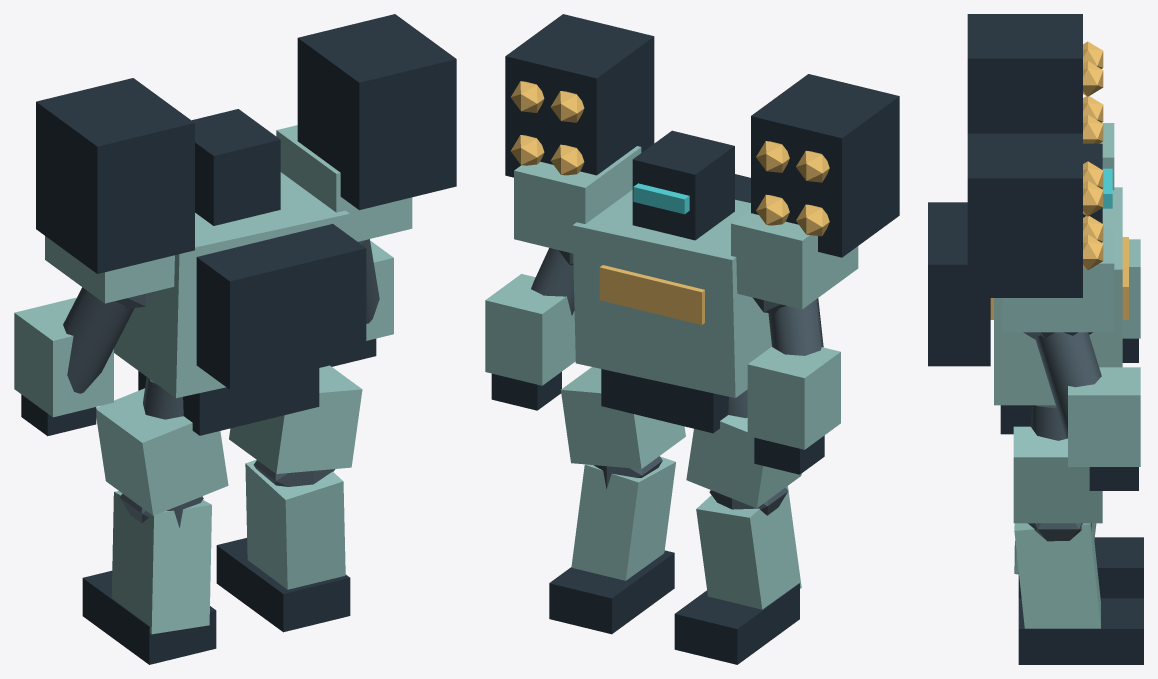
File: frame-monarch.glb
The picture shows the model from 3 angles, left to right: view 1: azimuth 30°, elevation 25°; view 2: azimuth 150°, elevation 25°; view 3: azimuth 270°, elevation 25°; orthographic projection. The views are drawn at different scales.
Parts seen in each view (by area): view 1: frame-monarch; view 2: frame-monarch; view 3: frame-monarch.
Boxes of the visible parts, x1,y1,x2,y2 form: frame-monarch: (14, 14, 456, 664); frame-monarch: (485, 14, 899, 664); frame-monarch: (928, 14, 1143, 664).
Size of the model in its own units: 1.18 by 1.75 by 0.655.
